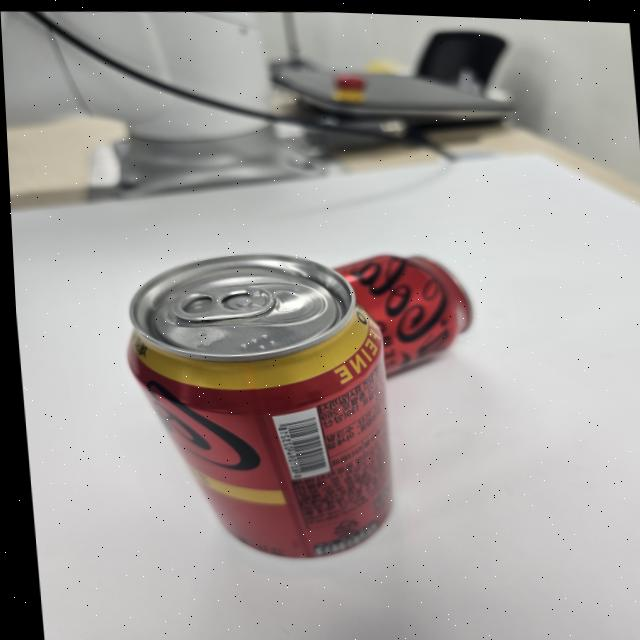can_coke_decaf: (126, 254, 402, 562)
can_coke_zero: (332, 251, 470, 371)
